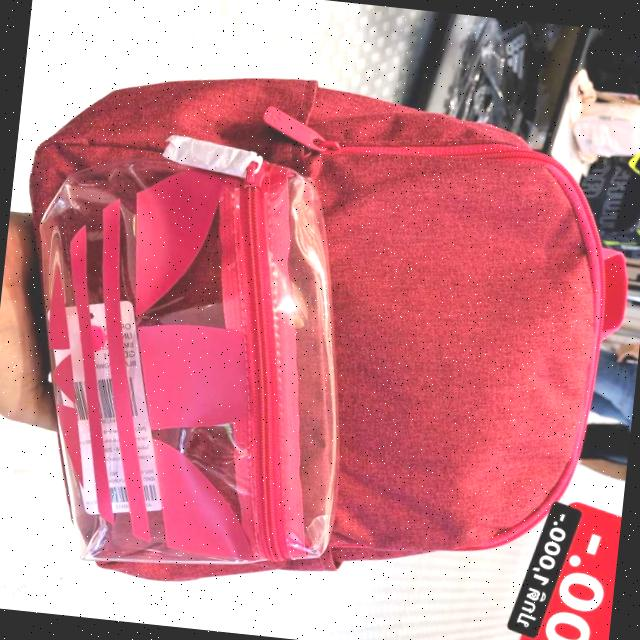Handbag: (0, 50, 626, 620)
